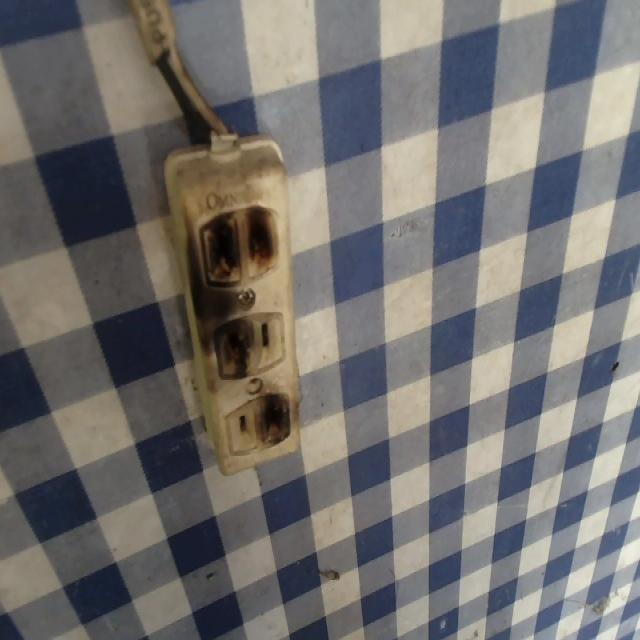-: (192, 199, 288, 284), (198, 304, 261, 383), (248, 390, 297, 454)
